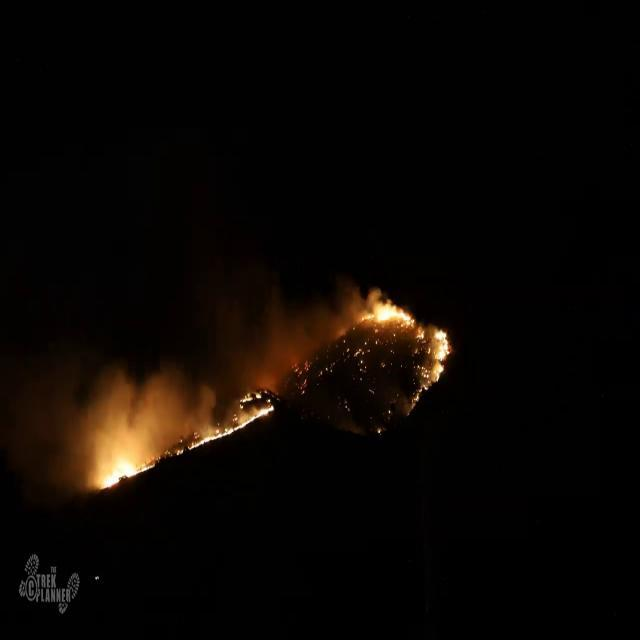Fire: (176, 390, 274, 457), (407, 329, 451, 422), (356, 296, 414, 332), (98, 458, 154, 492)
